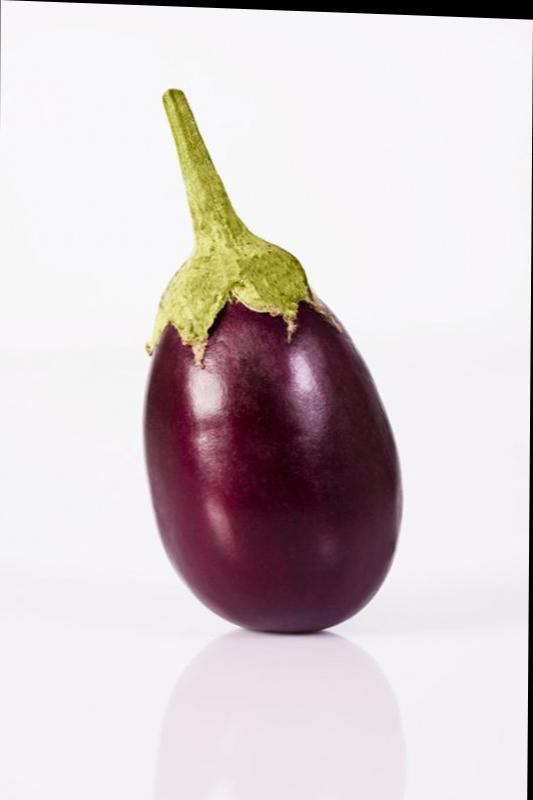eggplant: (130, 73, 410, 647)
